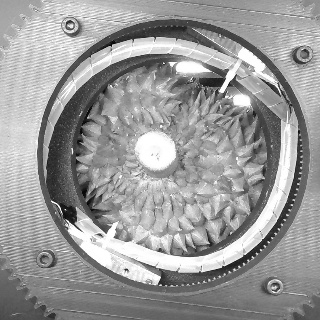base: (132, 143, 186, 185)
end: (133, 130, 177, 172)
